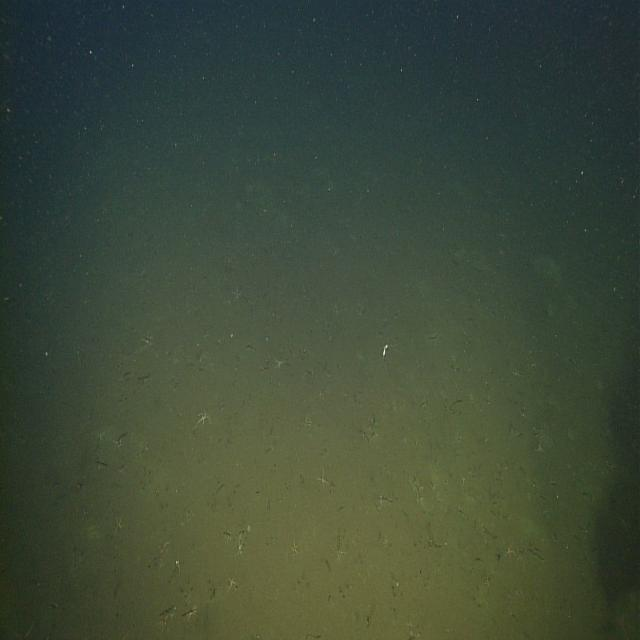Brittle Star: (191, 405, 212, 434), (136, 323, 156, 353), (314, 462, 333, 493), (501, 534, 517, 564), (222, 569, 240, 595)
